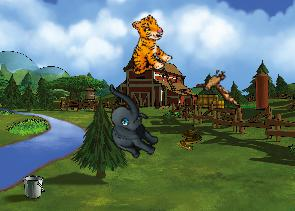eagle: (193, 66, 244, 108)
elephant: (86, 83, 173, 164)
tiger: (114, 12, 178, 80)
